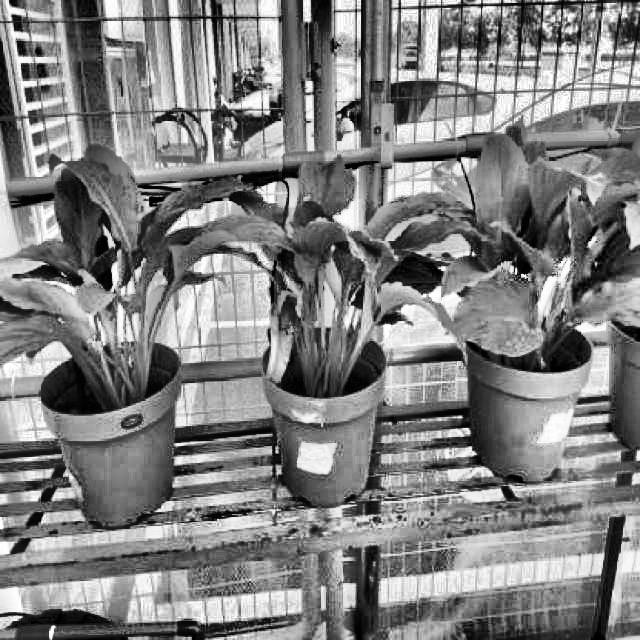plants: (166, 153, 451, 392), (0, 144, 235, 406), (417, 114, 640, 368)
